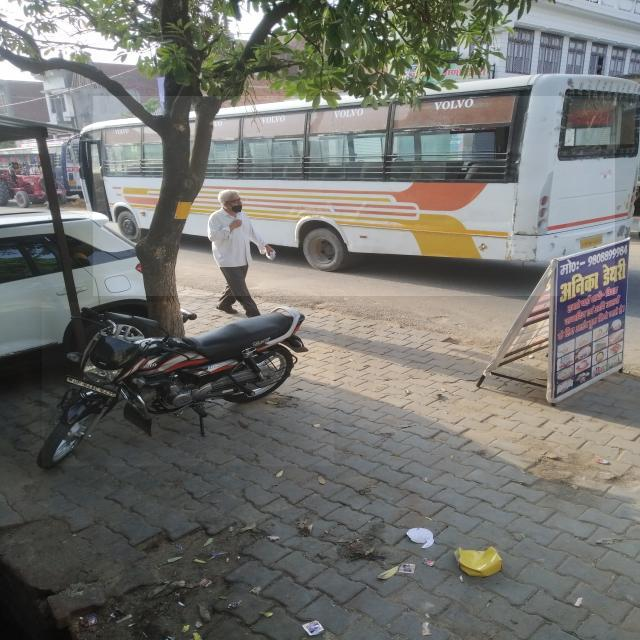Bike: (42, 302, 334, 466)
Bus: (93, 96, 615, 296)
